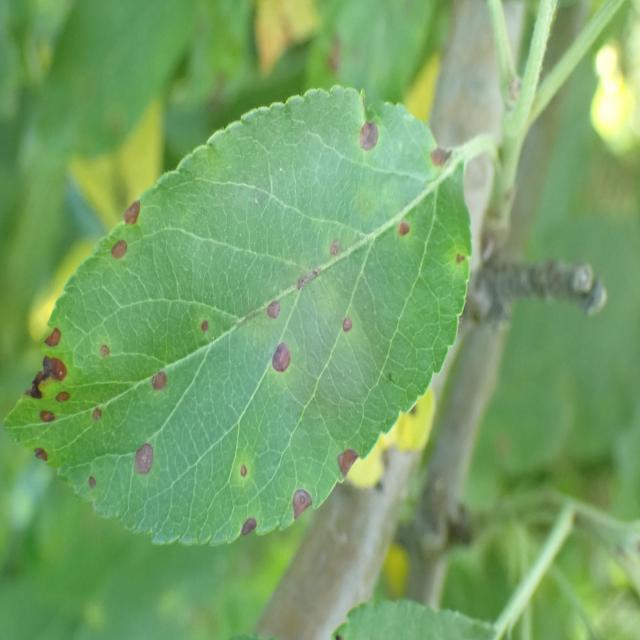frog-eye-leaf-spot: (4, 84, 473, 548)
